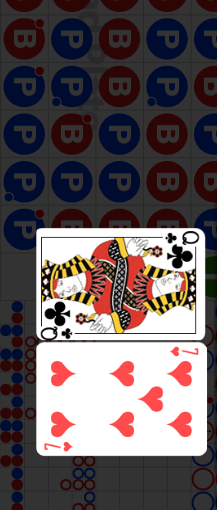7H: (169, 346, 200, 359)
QC: (36, 295, 83, 339), (157, 228, 203, 272)
